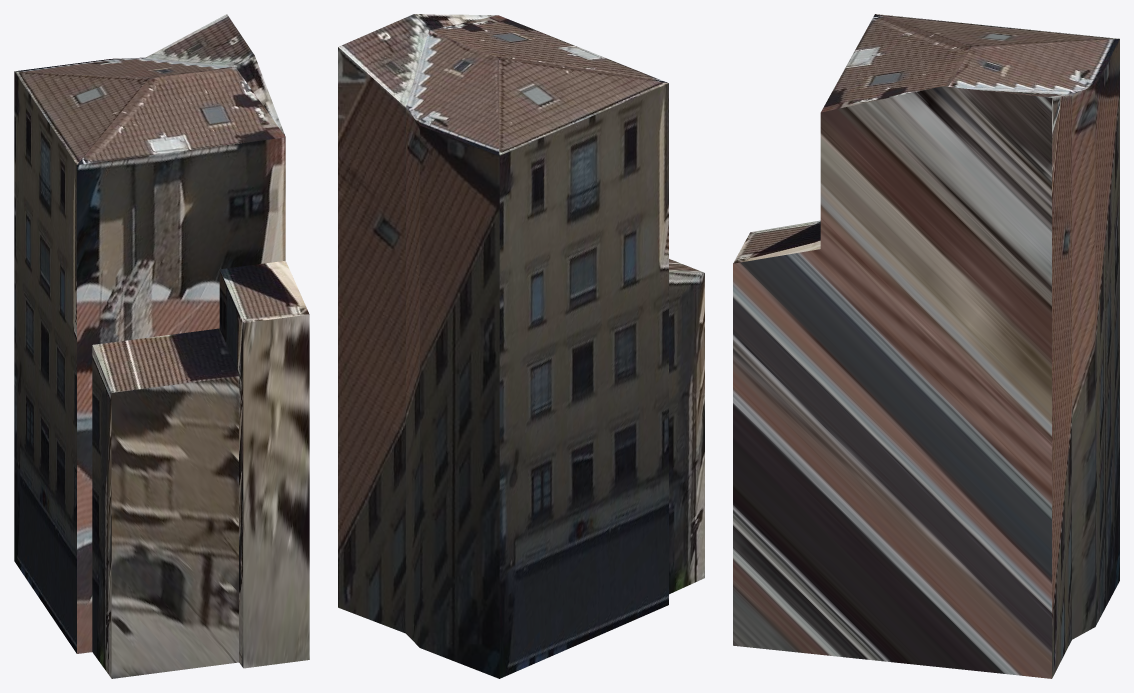
The picture shows the model from 3 angles, left to right: view 1: azimuth 30°, elevation 25°; view 2: azimuth 150°, elevation 25°; view 3: azimuth 270°, elevation 25°; orthographic projection. The views are drawn at different scales.
Visible parts, largest first — view 1: Z_UP; view 2: Z_UP; view 3: Z_UP.
Part boxes in pixels (x1=…): Z_UP: x1=14, y1=14, x2=309, y2=678; Z_UP: x1=338, y1=14, x2=704, y2=678; Z_UP: x1=733, y1=14, x2=1119, y2=678.
Bounding box in the file's own units: 11.28 × 24.62 × 14.86.
Materials: 2 (1 with a texture image).
